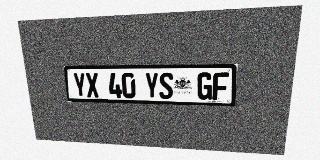0: (121, 73, 136, 98)
4: (108, 73, 122, 98)
F: (212, 72, 229, 100)
G: (197, 72, 213, 100)
S: (159, 72, 173, 99)
X: (85, 73, 100, 98)
Y: (145, 72, 159, 99), (72, 73, 87, 97)
